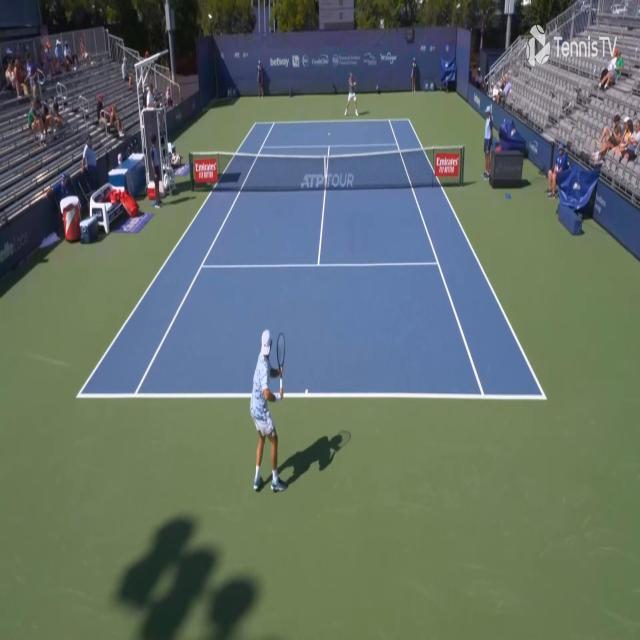tennis-player: (248, 324, 288, 496), (343, 68, 360, 119)
